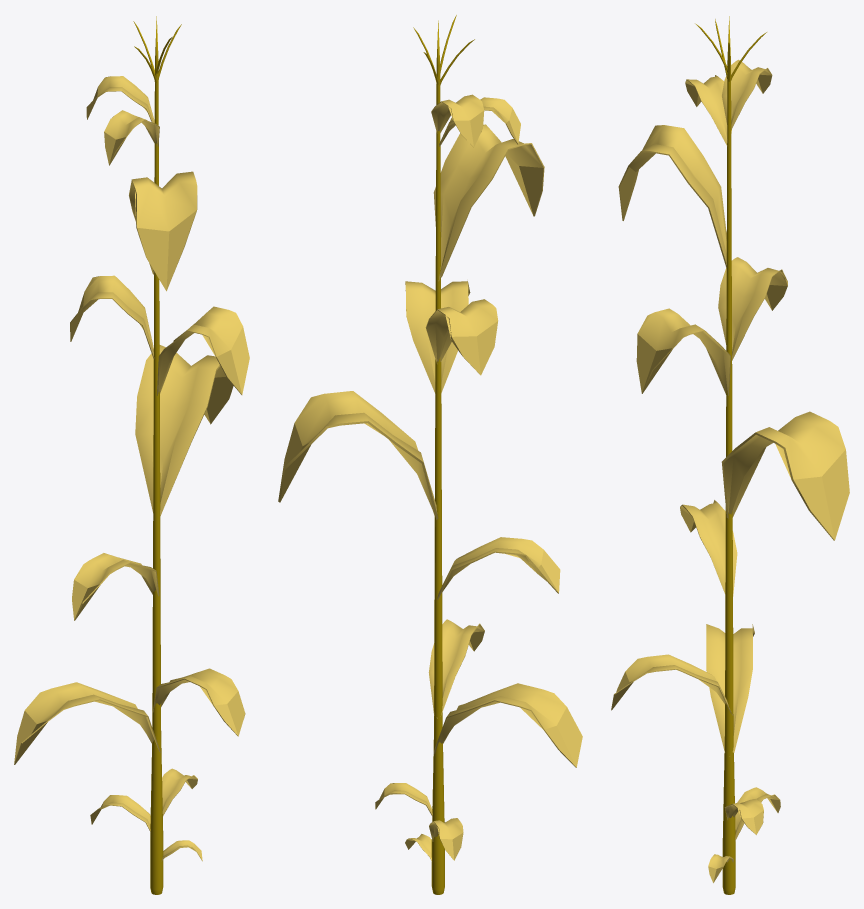
File: Corn Stock.fbx
3 views of the same model, side by side, from view 1: azimuth 30°, elevation 25°; view 2: azimuth 150°, elevation 25°; view 3: azimuth 270°, elevation 25° (orthographic).
Parts seen in each view (by area): view 1: pasted__Leaf, Stem, pasted__Leaf3, pasted__pPlane1 (×2), pasted__Leaf1, Leaf, pasted__Leaf2, pasted__Leaf5, pasted__Leaf4, Leaf2, Leaf1; view 2: pasted__Leaf3, Stem, pasted__Leaf, pasted__pPlane1 (×2), Leaf, pasted__Leaf2, pasted__Leaf1, pasted__Leaf4, pasted__Leaf5, Leaf1, Leaf2; view 3: pasted__Leaf, Stem, pasted__Leaf3, pasted__pPlane1 (×2), pasted__Leaf1, pasted__Leaf2, Leaf, pasted__Leaf4, pasted__Leaf5, Leaf2, Leaf1.
Boxes of the visible parts, left/top/right/bottom form: pasted__Leaf: left=135, top=345, right=233, bottom=515; Stem: left=150, top=16, right=163, bottom=894; pasted__Leaf3: left=129, top=171, right=197, bottom=291; pasted__pPlane1 (×2): left=72, top=553, right=245, bottom=736; pasted__Leaf1: left=157, top=306, right=249, bottom=395; Leaf: left=14, top=682, right=160, bottom=764; pasted__Leaf2: left=70, top=275, right=154, bottom=359; pasted__Leaf5: left=104, top=110, right=159, bottom=165; pasted__Leaf4: left=86, top=76, right=154, bottom=122; Leaf2: left=162, top=768, right=197, bottom=815; Leaf1: left=90, top=795, right=150, bottom=832; pasted__Leaf3: left=433, top=124, right=544, bottom=281; Stem: left=431, top=20, right=444, bottom=894; pasted__Leaf: left=278, top=391, right=438, bottom=519; pasted__pPlane1 (×2): left=428, top=537, right=560, bottom=718; Leaf: left=433, top=683, right=582, bottom=767; pasted__Leaf2: left=425, top=299, right=498, bottom=375; pasted__Leaf1: left=405, top=281, right=470, bottom=393; pasted__Leaf4: left=431, top=94, right=484, bottom=147; pasted__Leaf5: left=439, top=97, right=520, bottom=146; Leaf1: left=429, top=818, right=463, bottom=860; Leaf2: left=375, top=783, right=432, bottom=816; pasted__Leaf: left=721, top=411, right=849, bottom=540; Stem: left=722, top=16, right=735, bottom=894; pasted__Leaf3: left=618, top=125, right=726, bottom=267; pasted__pPlane1 (×2): left=611, top=500, right=737, bottom=715; pasted__Leaf1: left=636, top=308, right=730, bottom=395; pasted__Leaf2: left=718, top=257, right=787, bottom=360; Leaf: left=706, top=624, right=754, bottom=756; pasted__Leaf4: left=722, top=59, right=772, bottom=129; pasted__Leaf5: left=685, top=75, right=731, bottom=145; Leaf2: left=724, top=799, right=763, bottom=834; Leaf1: left=735, top=787, right=780, bottom=841.
Bounding box in the file's own units: 2.58 × 8.5 × 2.09.
